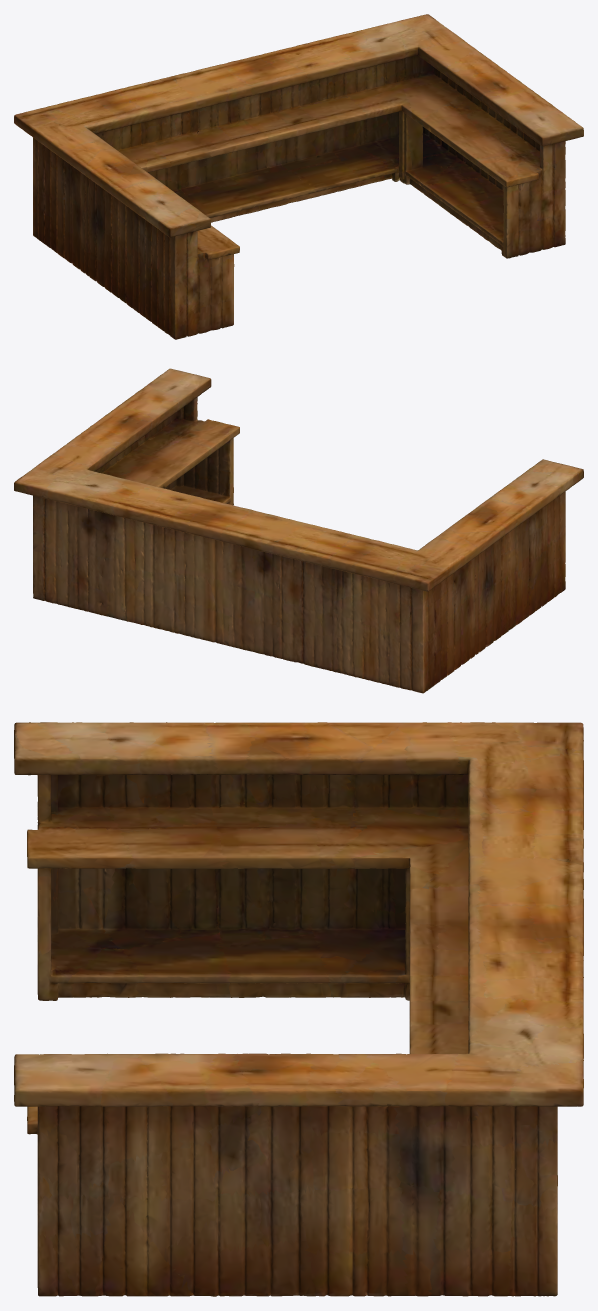
Rendered from barstand2.glb.
The picture shows the model from 3 angles, top to bottom: view 1: azimuth 30°, elevation 25°; view 2: azimuth 150°, elevation 25°; view 3: azimuth 270°, elevation 25°; orthographic projection. The views are drawn at different scales.
Size of the model in its own units: 1.9 by 0.5235 by 1.24.
1 material, 1 textured.
